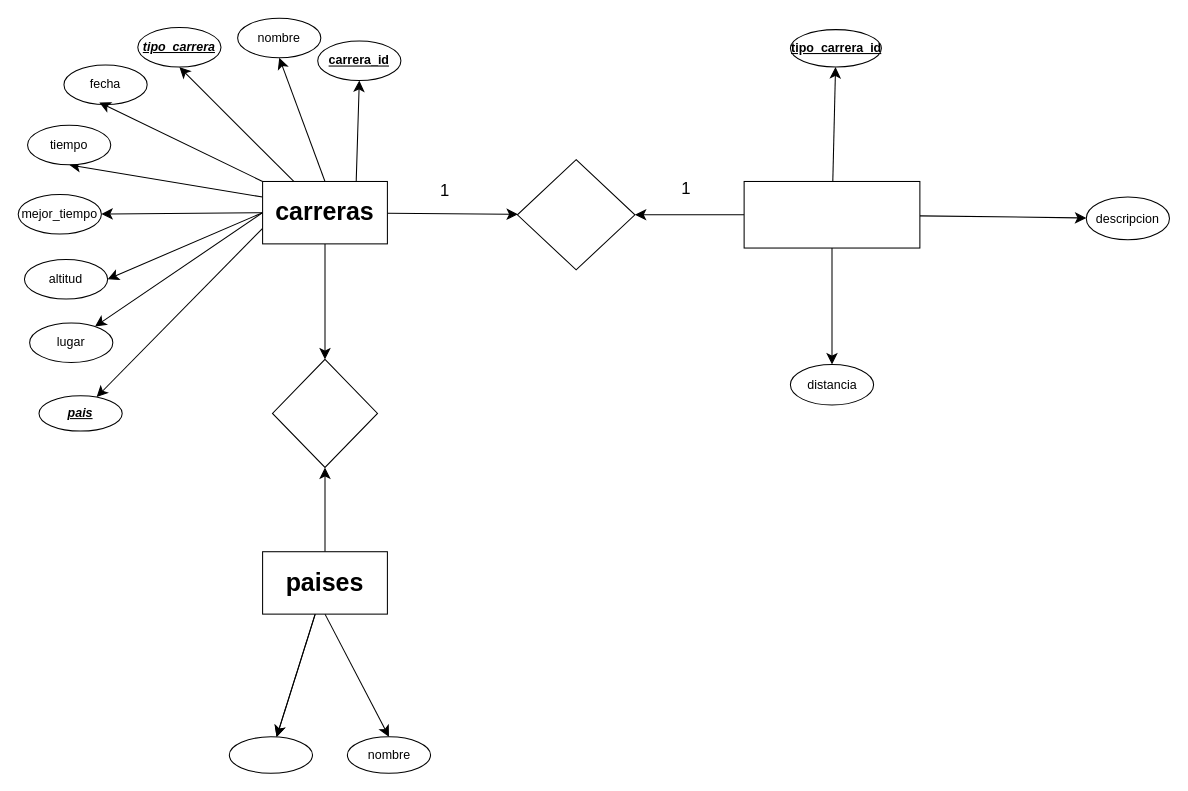
The diagram is 1188 pixels wide and 791 high, and some of its shapes have lost their labels. The centre of each missing label's shape, as x and y in pixels:
pais_id: pixel 270 754
pertenece: pixel 575 214
se corre: pixel 324 412
tipos_carreras: pixel 831 214
